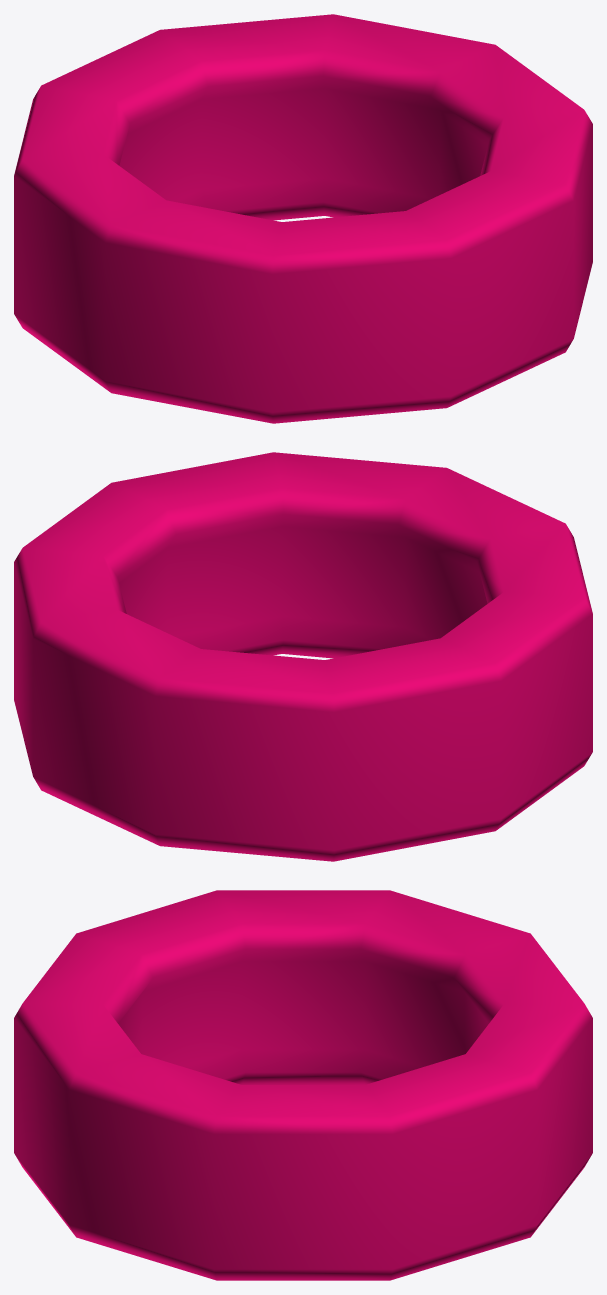
File: Tire_01_Lod1.fbx
The picture shows the model from 3 angles, top to bottom: view 1: azimuth 30°, elevation 25°; view 2: azimuth 150°, elevation 25°; view 3: azimuth 270°, elevation 25°; orthographic projection. The views are drawn at different scales.
Visible parts, largest first — view 1: Tire_01_Lod1; view 2: Tire_01_Lod1; view 3: Tire_01_Lod1.
Boxes of the visible parts, bbox=[...] form: Tire_01_Lod1: bbox=[14, 14, 592, 423]; Tire_01_Lod1: bbox=[14, 452, 592, 861]; Tire_01_Lod1: bbox=[14, 890, 592, 1280].
Bounding box in the file's own units: 73.63 × 24.26 × 77.42.
